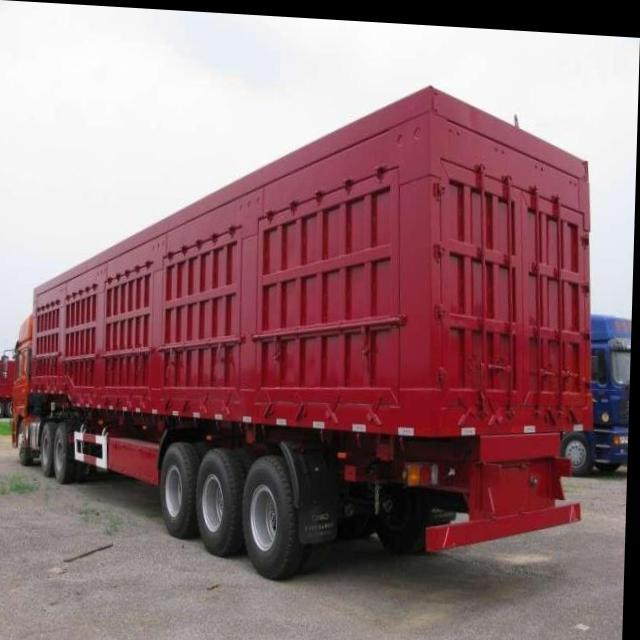covered: (18, 56, 614, 580)
